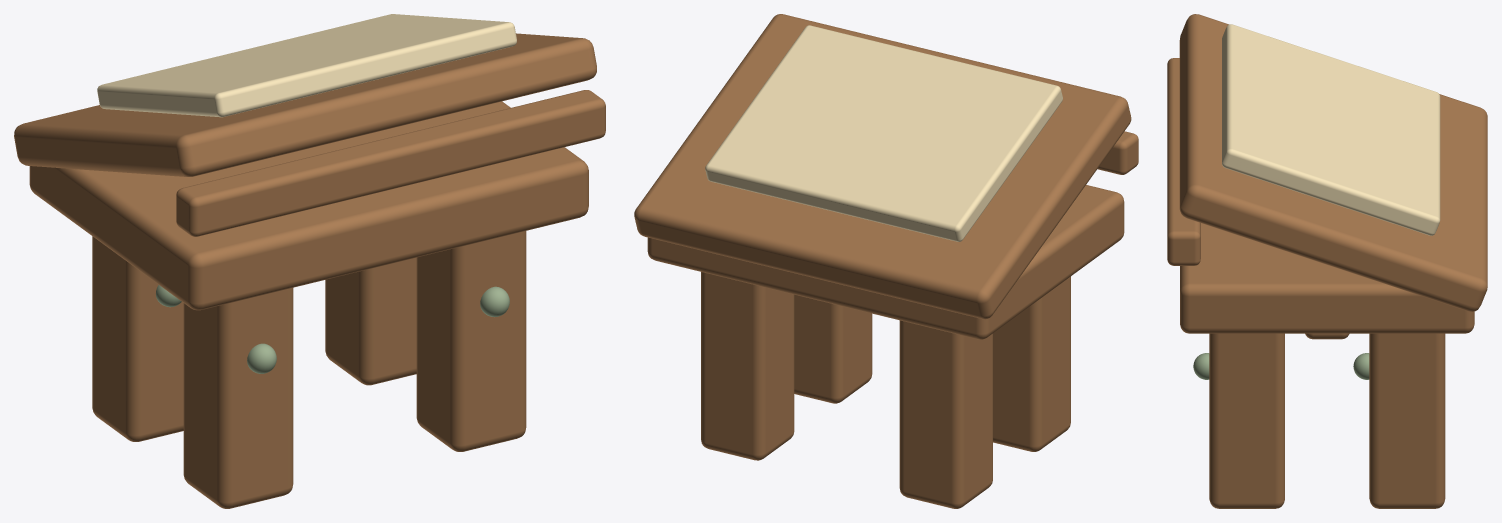
File: desert-caravanserai-and-bazaar-ledger-stand-9e361b91__30468.glb
3 views of the same model, side by side, from view 1: azimuth 30°, elevation 25°; view 2: azimuth 150°, elevation 25°; view 3: azimuth 270°, elevation 25° (orthographic). The views are drawn at different scales.
Visible parts, largest first — view 1: ledger-stand; view 2: ledger-stand; view 3: ledger-stand.
Boxes of the visible parts, x1,y1,x2,y2 form: ledger-stand: (14,14,605,508); ledger-stand: (634,14,1138,508); ledger-stand: (1167,14,1487,508).
Size of the model in its own units: 0.5 by 0.471 by 0.3804.
